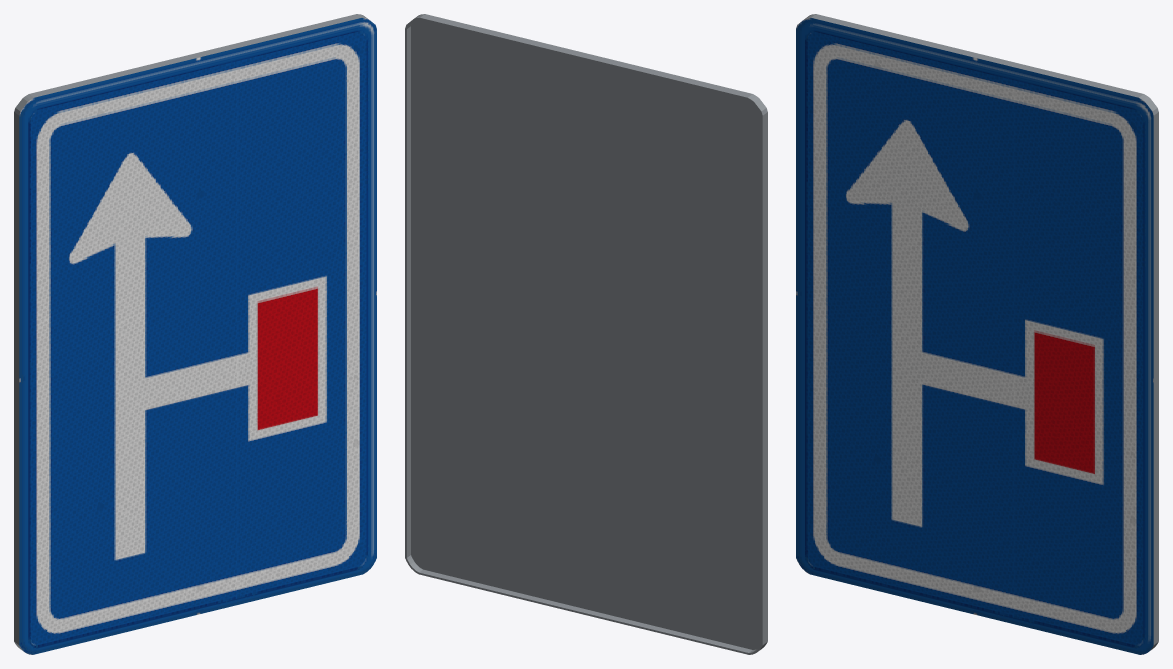
3 views of the same model, side by side, from view 1: azimuth 30°, elevation 25°; view 2: azimuth 150°, elevation 25°; view 3: azimuth 330°, elevation 25° (orthographic).
Visible parts, largest first — view 1: cat_9ecc641dd88a3dcf; view 2: cat_9ecc641dd88a3dcf; view 3: cat_9ecc641dd88a3dcf.
Boxes of the visible parts, bbox=[...] form: cat_9ecc641dd88a3dcf: bbox=[14, 14, 376, 654]; cat_9ecc641dd88a3dcf: bbox=[405, 14, 767, 654]; cat_9ecc641dd88a3dcf: bbox=[796, 14, 1158, 654].
Size of the model in its own units: 0.6 by 0.015 by 0.8927.
2 materials, 1 textured.
